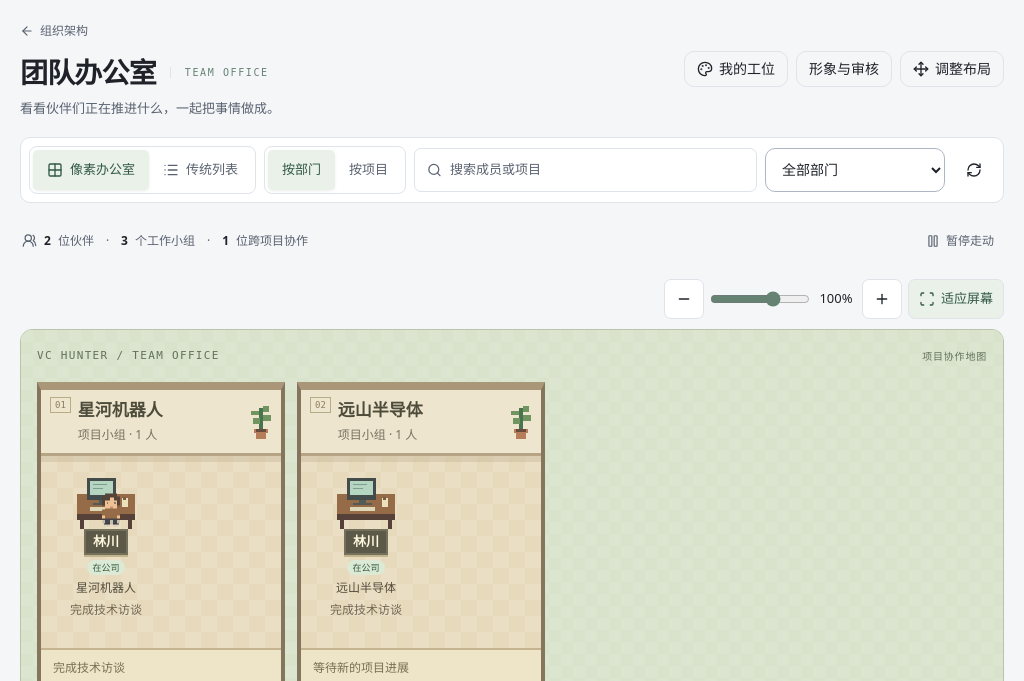
Test case: team office › provides administrator layout editing and a paused movement mode
Click the button "调整布局": [952, 69] box [900,51,1004,87]
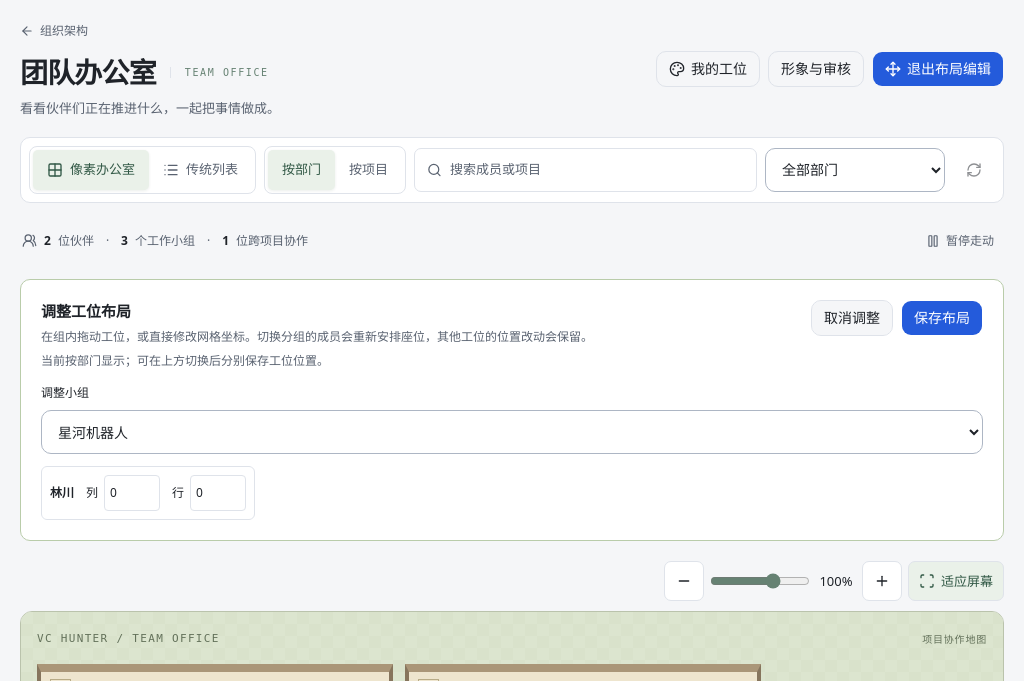
Expected: the button "保存布局" is shown, [901,300,983,336]
Expected: the text "当前按部门显示；可在上方切换后分别保存工位位置。" is shown, [41,352,329,369]
Click the button "暂停走动": [960, 241] box [918,219,1002,263]
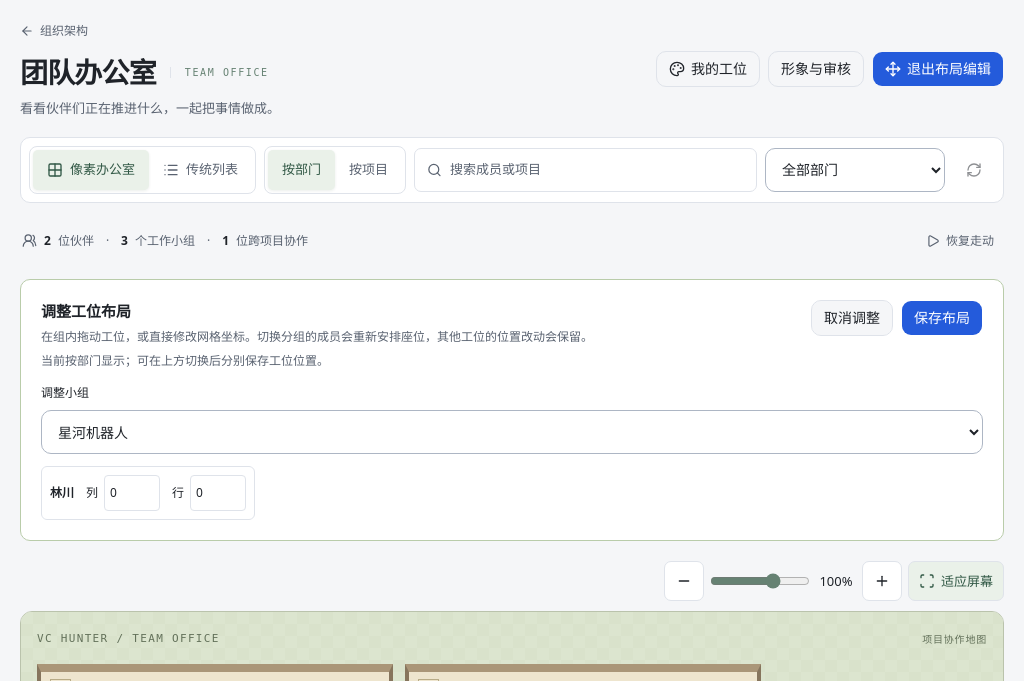
Expected: the button "恢复走动" is shown, [918,219,1002,263]
